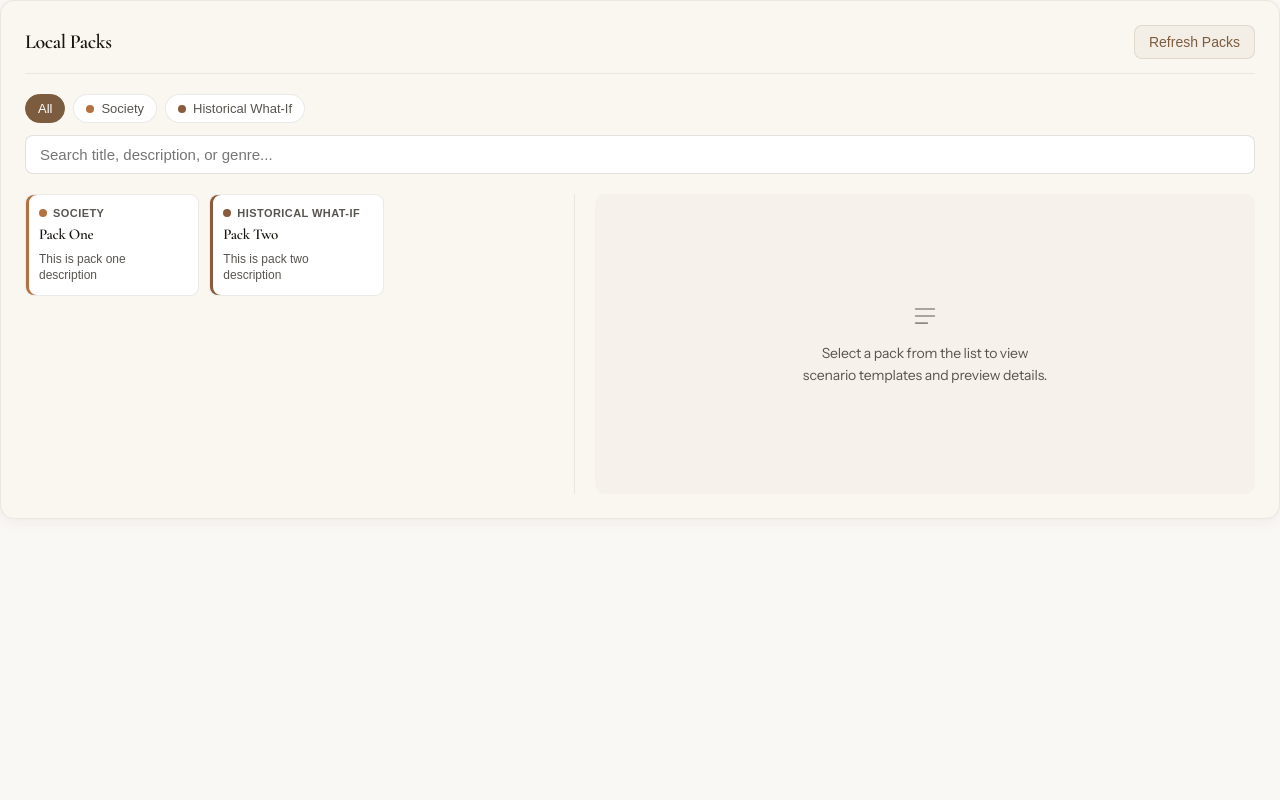
Test case: LocalPackPicker › clears a stale genre filter when refresh removes that genre
The width and height of the screenshot is (1280, 800).
Expected: the button "Society Pack One This is pack one description" is shown, [25,194,199,296]
# Select the society segment → only Pack One remains
Click the button "Society" at {"x": 115, "y": 108}, box [74,94,157,123]
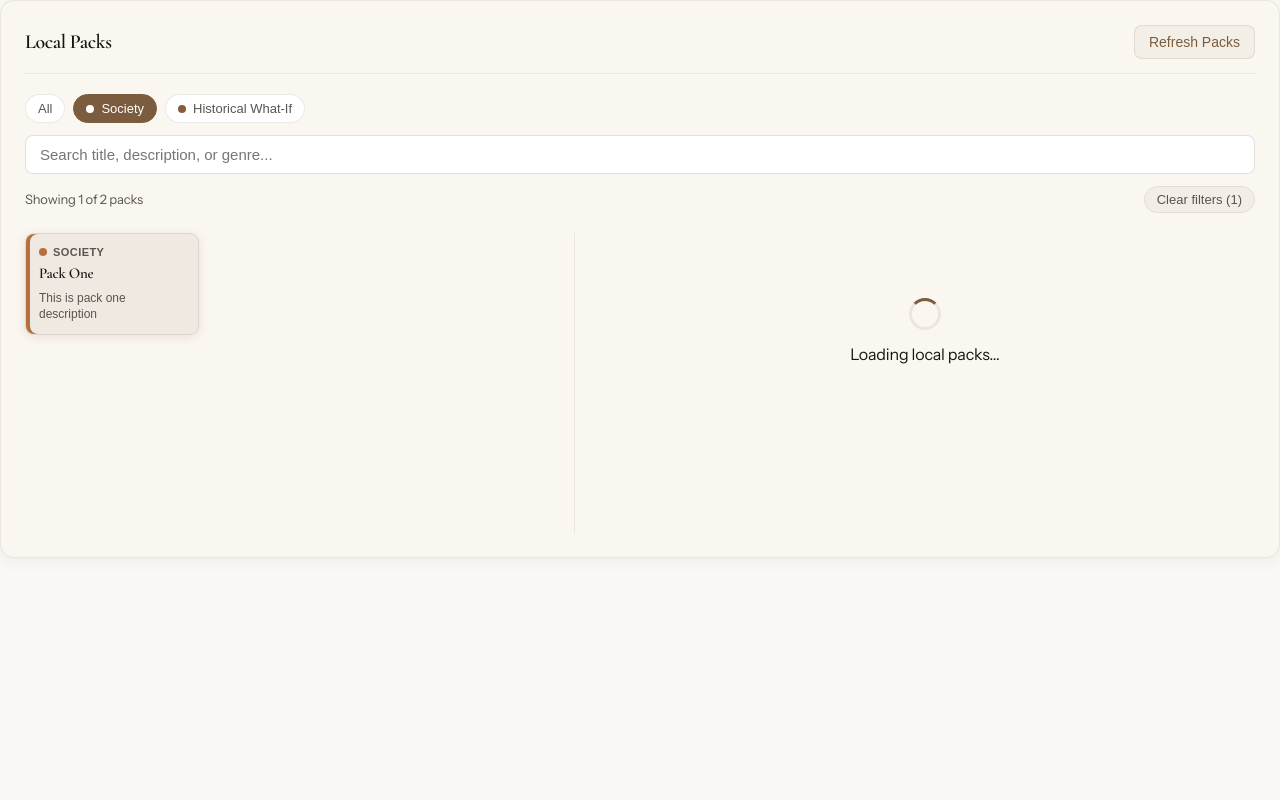
Now the button "Pack Two" is gone
# Refresh to a pack set that no longer contains 'society'
Click the button "Refresh Packs" at {"x": 1194, "y": 42}, box [1134,25,1255,59]
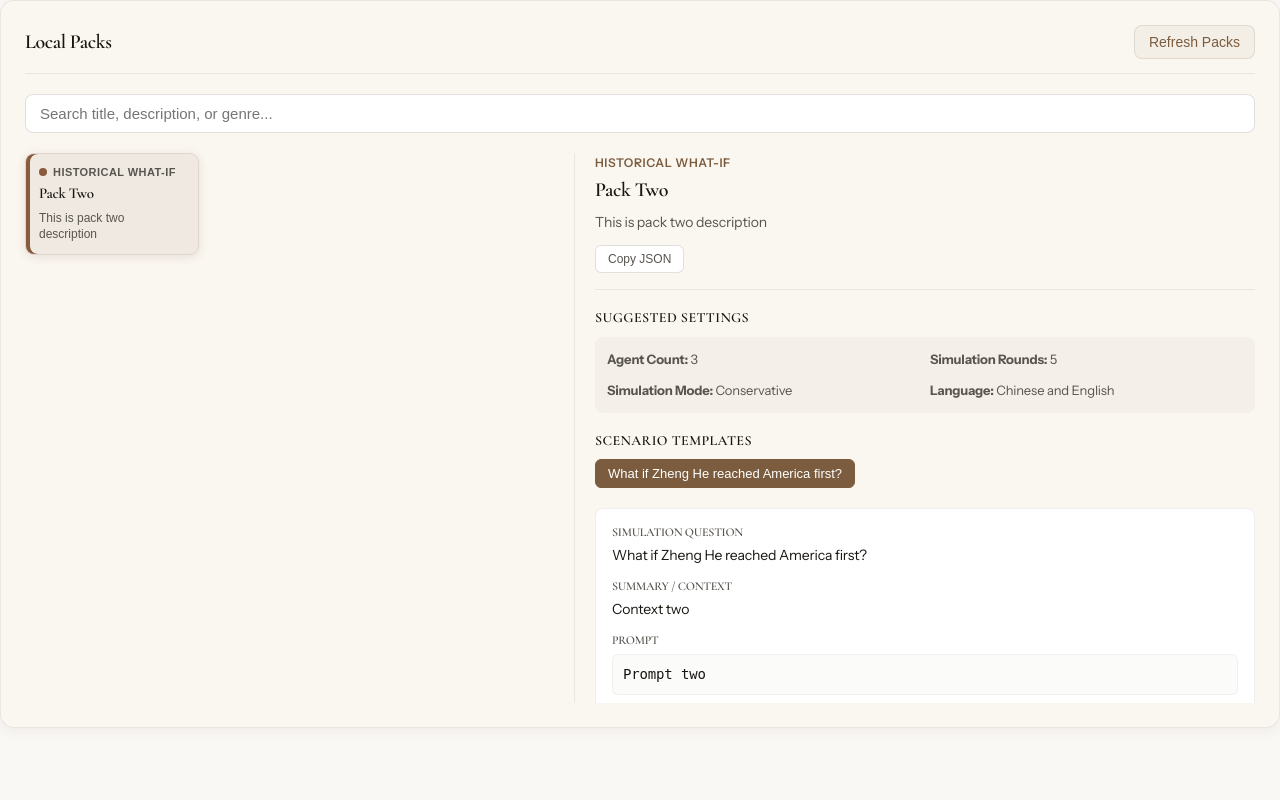
Now the button "Historical What-If Pack Two This is pack two description" is shown, box [25,153,199,255]
